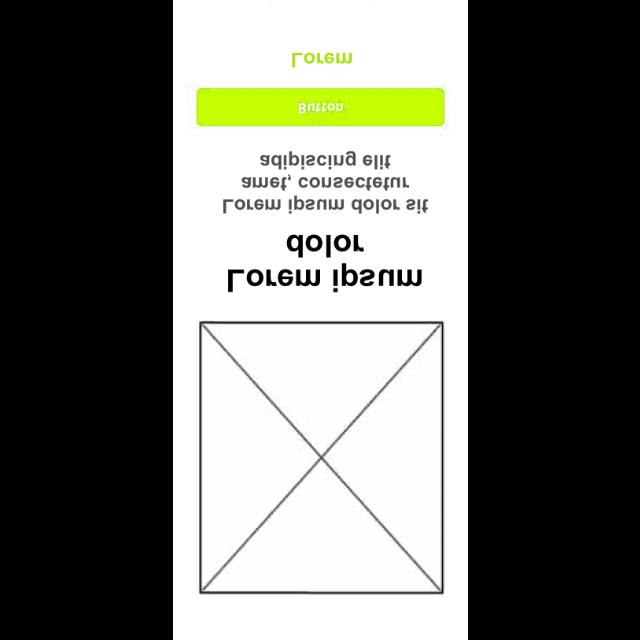image: (198, 320, 444, 594)
text: (222, 150, 428, 214), (226, 234, 422, 292), (292, 52, 352, 68)
textbutton: (196, 88, 444, 126)
